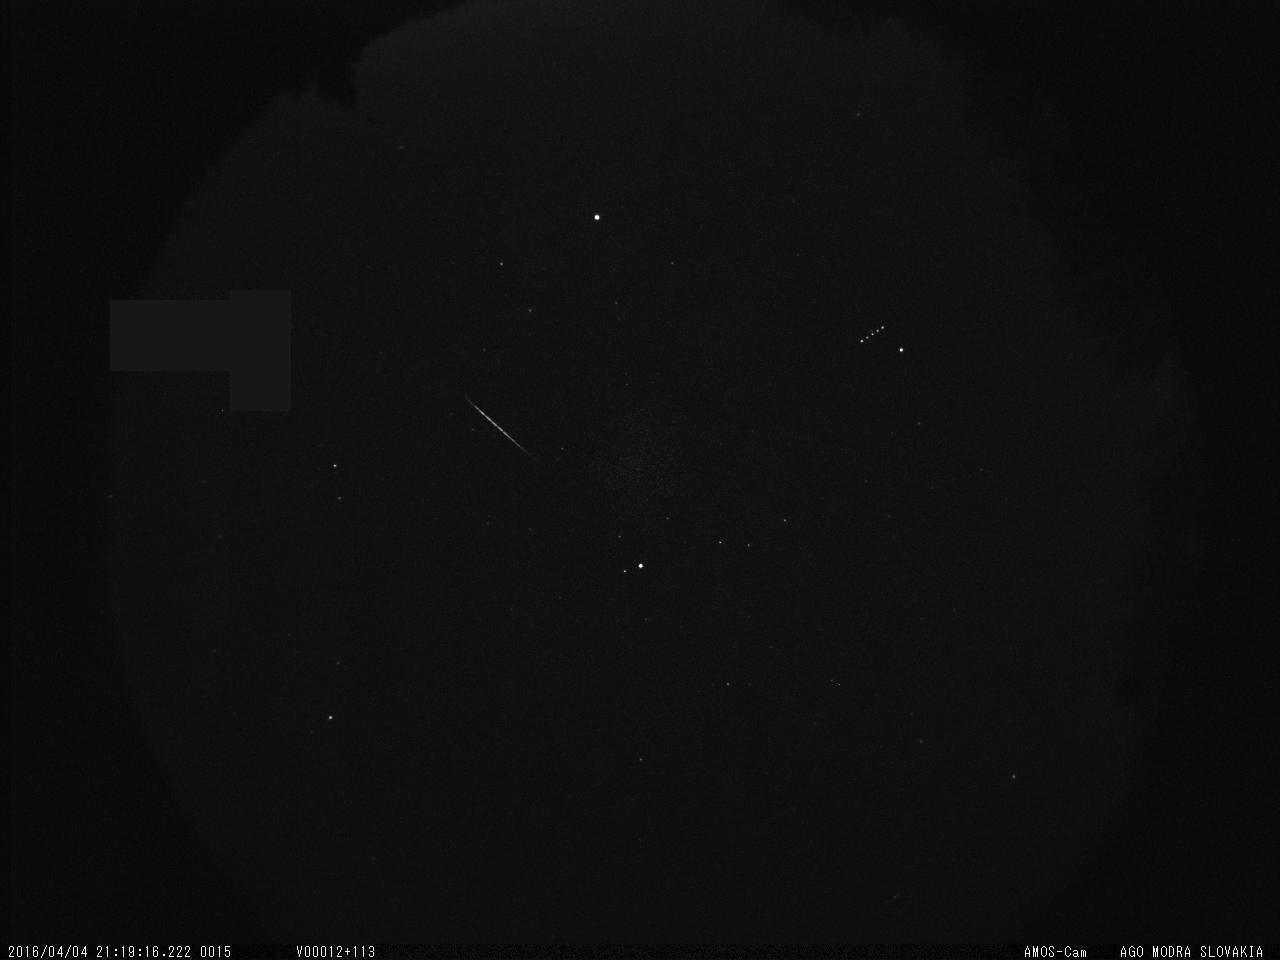meteor: (459, 388, 549, 466)
